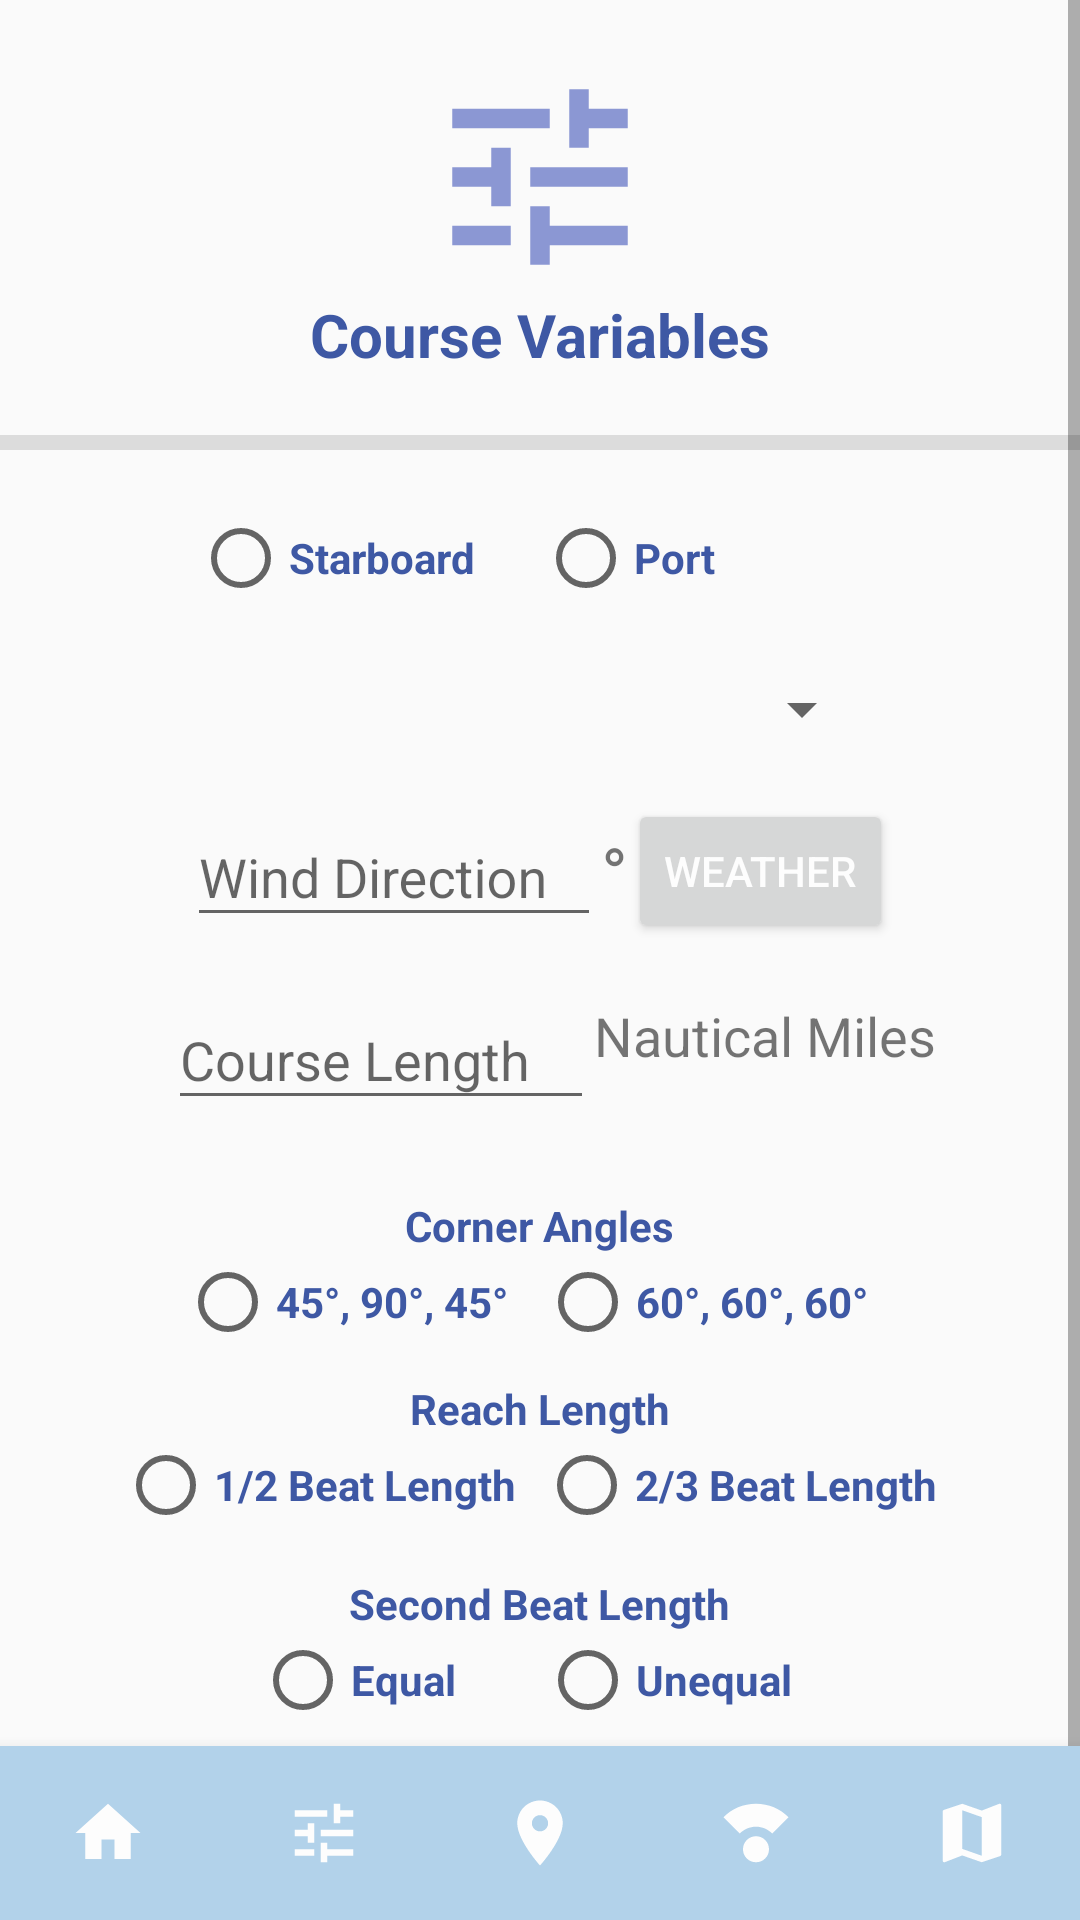

Locate icon controls on the screen. Image size 1080×1920, boxes as bbox(x1, y1, x2, y2).
tune: bbox(452, 89, 628, 265)
